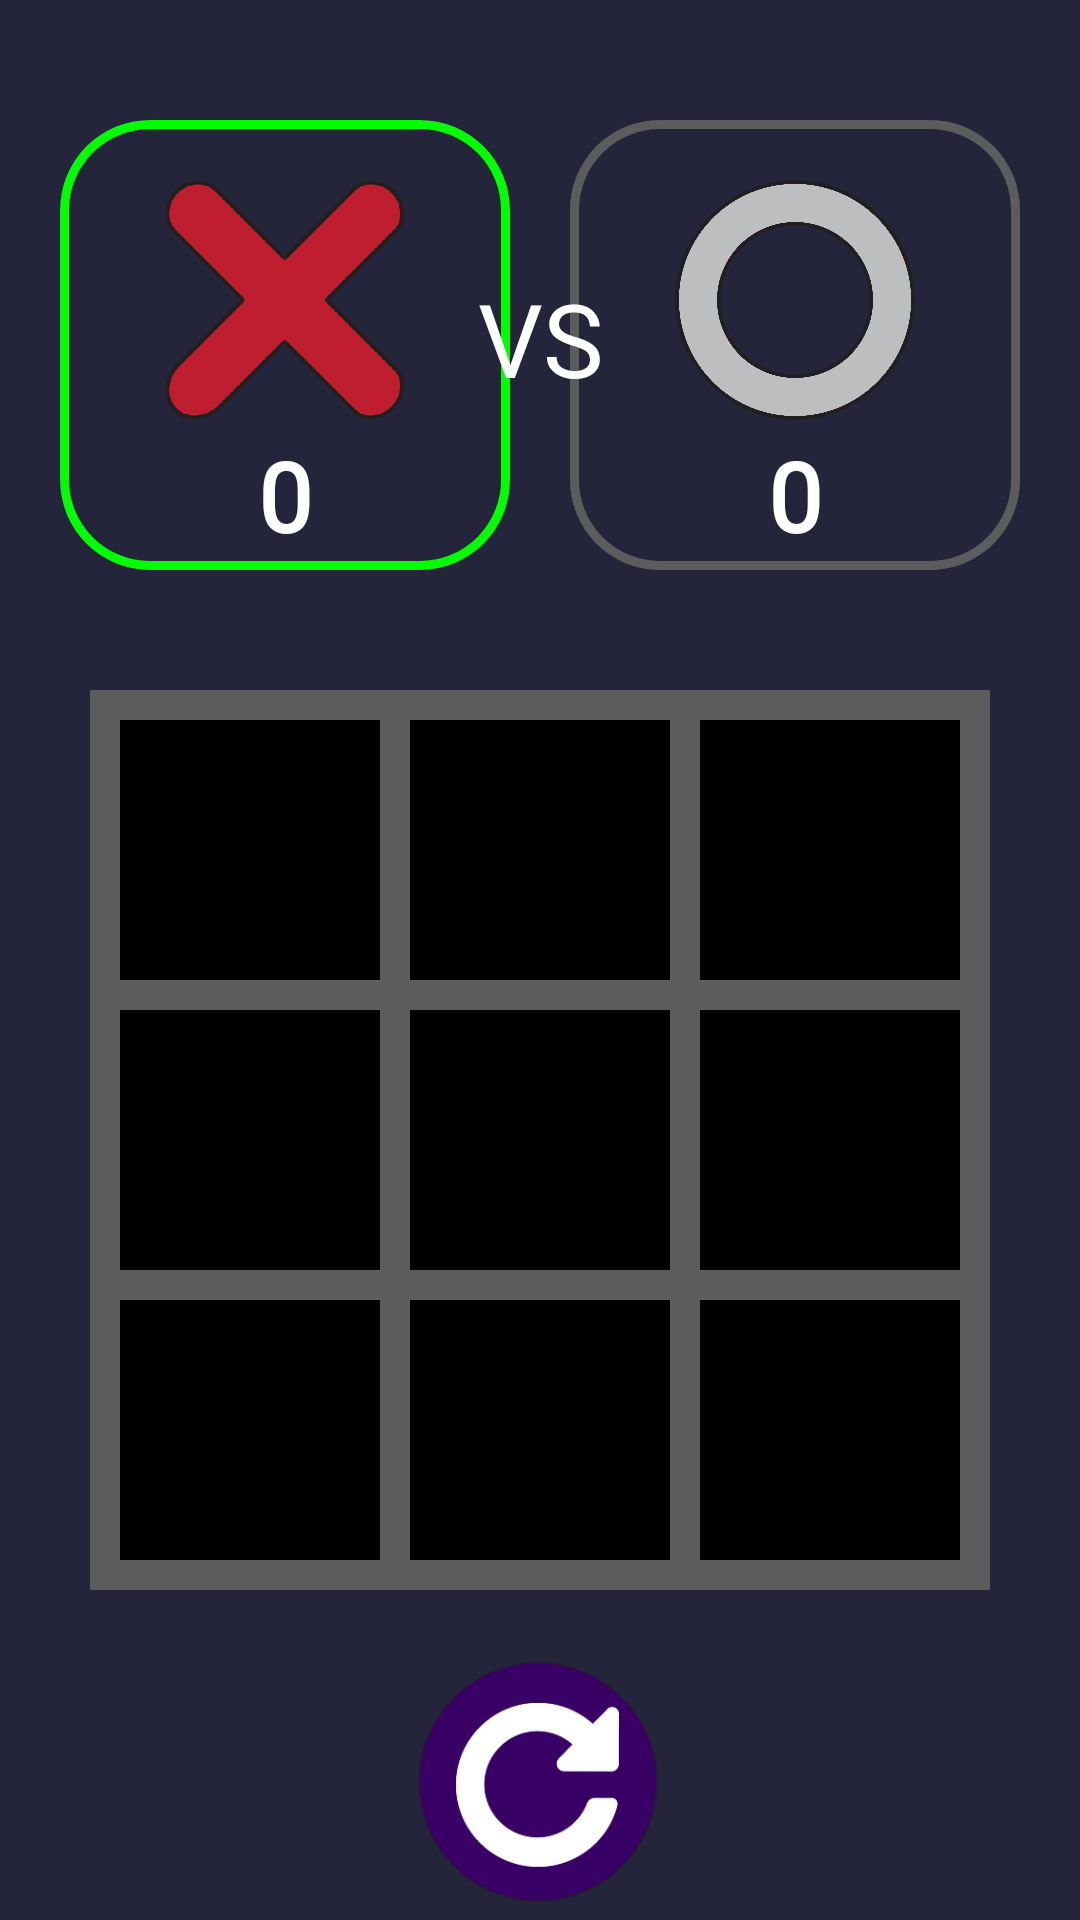

Point at icon controls on the screen. Image size 1080 × 1920, points as (x=x, y=y).
multip: (x=285, y=300)
repeat: (x=538, y=1782)
